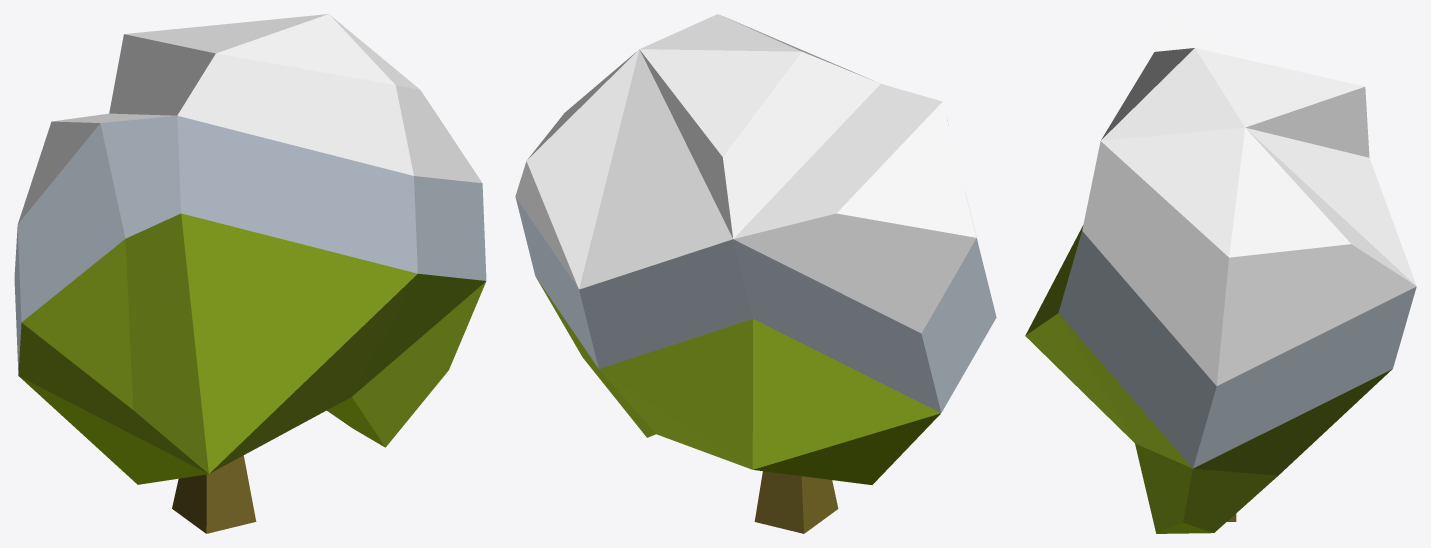
File: BushWinter4_Alt4.fbx
The picture shows the model from 3 angles, left to right: view 1: azimuth 30°, elevation 25°; view 2: azimuth 150°, elevation 25°; view 3: azimuth 270°, elevation 25°; orthographic projection.
Parts seen in each view (by area): view 1: BushWinter4_Alt4; view 2: BushWinter4_Alt4; view 3: BushWinter4_Alt4.
Boxes of the visible parts, left/top/right/bottom form: BushWinter4_Alt4: left=14, top=14, right=486, bottom=533; BushWinter4_Alt4: left=515, top=14, right=996, bottom=533; BushWinter4_Alt4: left=1025, top=14, right=1416, bottom=533.
Bounding box in the file's own units: 0.4744 × 0.4457 × 0.343.
